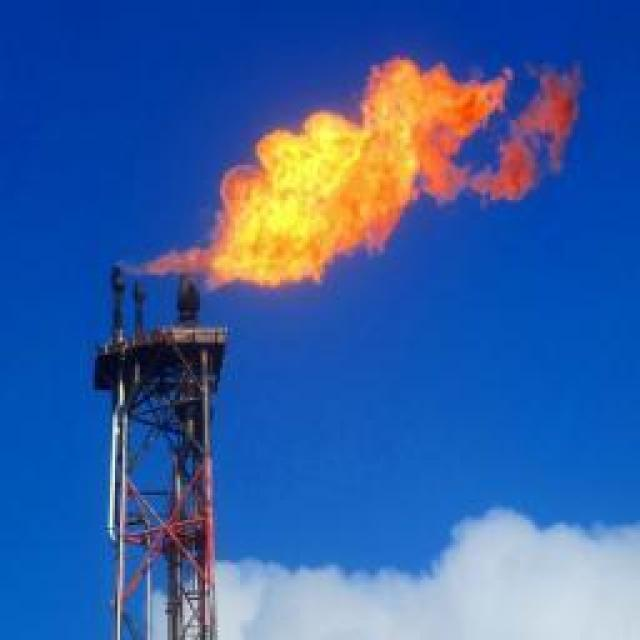fire: (123, 58, 583, 293)
